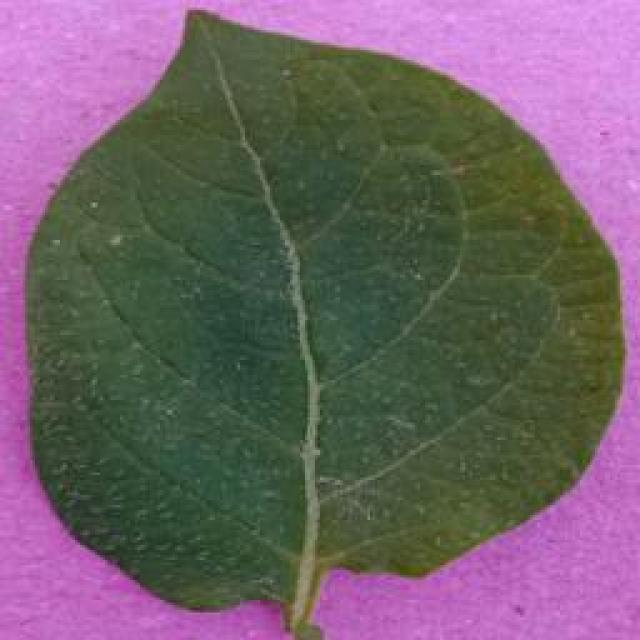Potato_Healthy: (24, 5, 614, 628)
